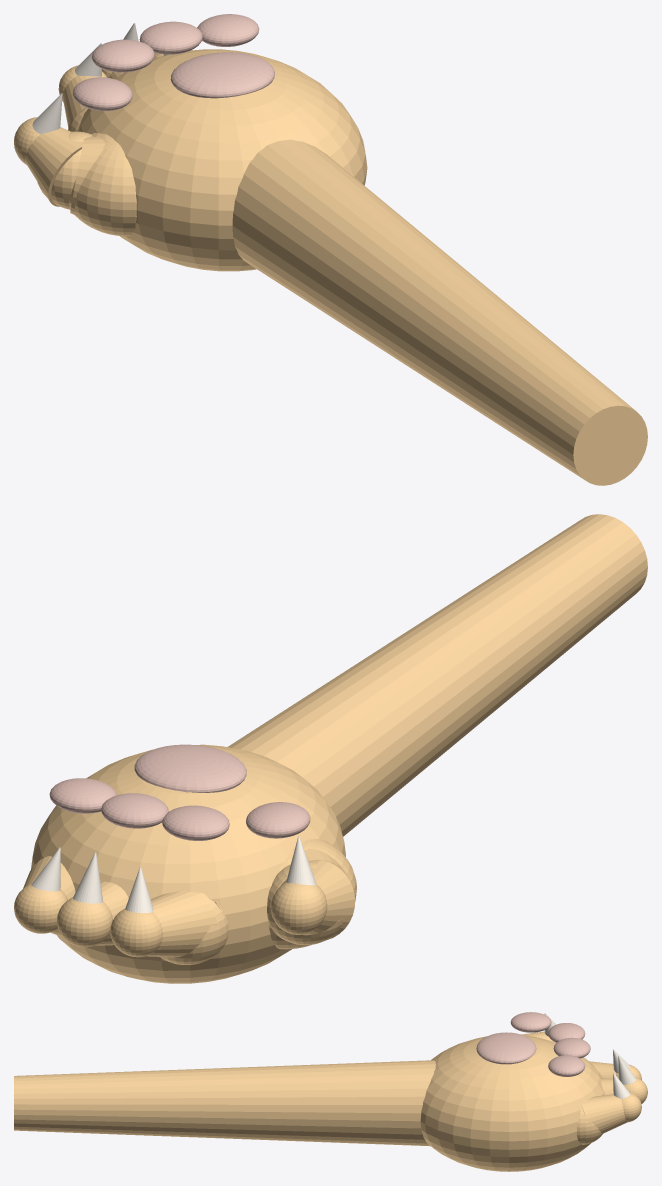
File: paw_ai_v1.glb
3 renders of one model, top to bottom at view 1: azimuth 30°, elevation 25°; view 2: azimuth 150°, elevation 25°; view 3: azimuth 270°, elevation 25°, orthographic. The views are drawn at different scales.
Visible parts, largest first — view 1: Paw; view 2: Paw; view 3: Paw.
Boxes of the visible parts, x1,y1,x2,y2 form: Paw: (14,14,647,485); Paw: (14,514,647,983); Paw: (14,1012,647,1171).
Size of the model in its own units: 0.077 by 0.048 by 0.2317.
